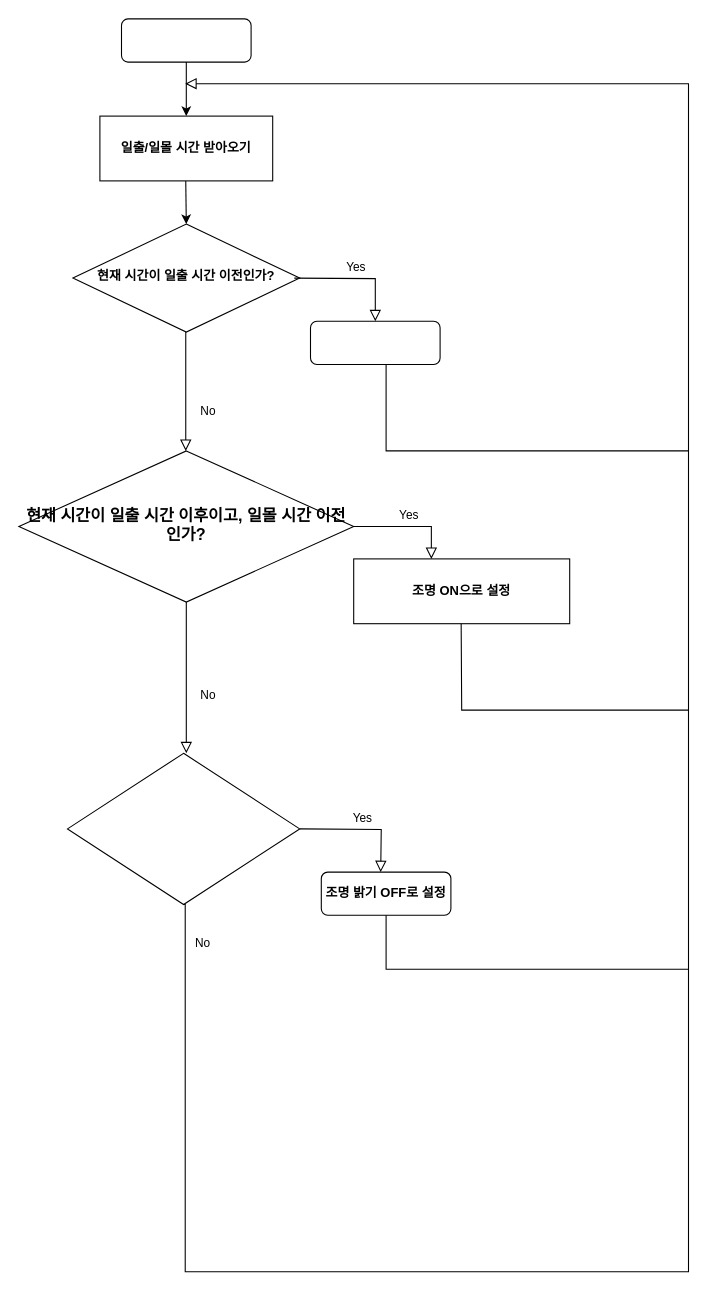
The diagram is 718 pixels wide and 1301 high, and some of its shapes have lost their labels. The centre of each missing label's shape, as x and y in pixels:
시스템 시작: point 185,40
조명 OFF으로 설정: point 374,342
현재 시간이 일몰 시간 이후인가?: point 183,828
